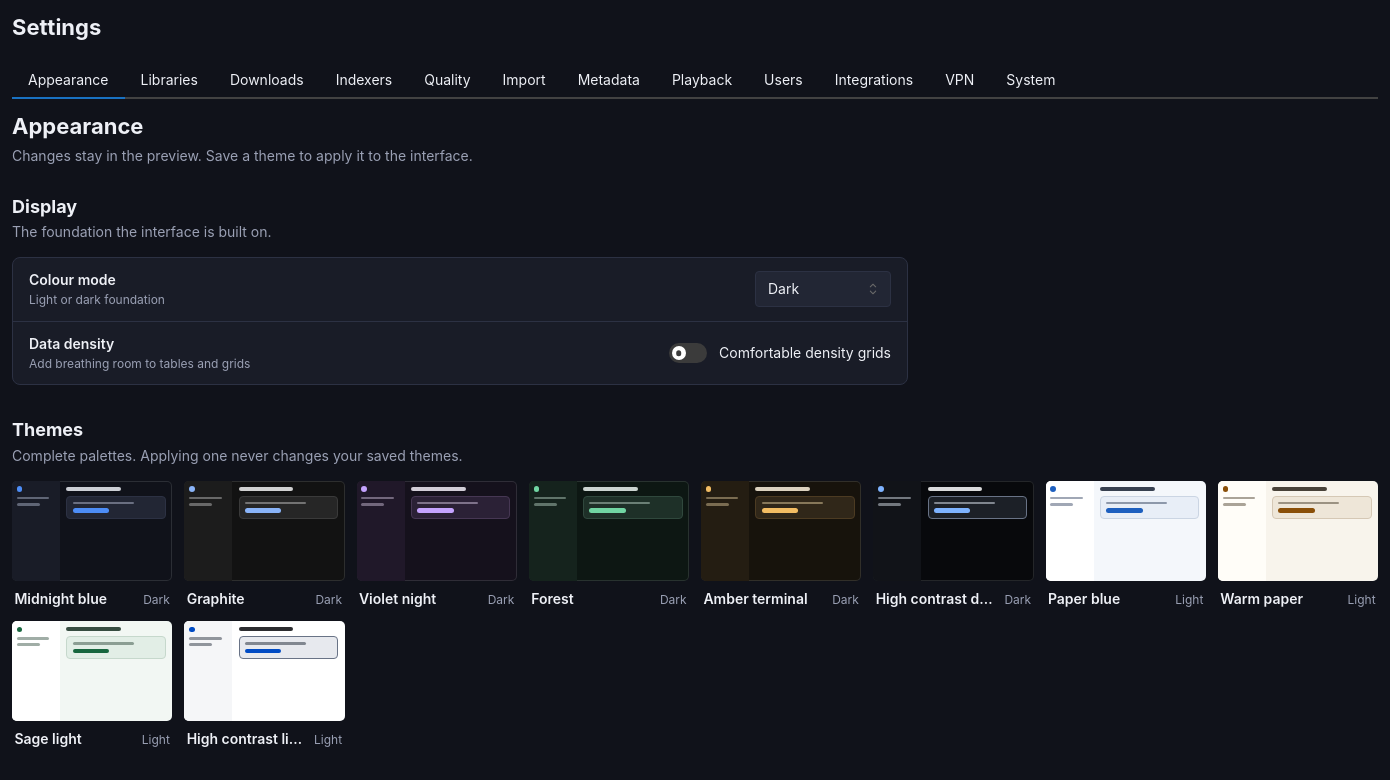
Scenario: Settings page › shows admin-gated notice to viewers instead of hidden controls
The width and height of the screenshot is (1390, 780).
Note: Switch to Libraries tab.
Click the tab "Libraries" at [169, 81], box [124,63,214,99]
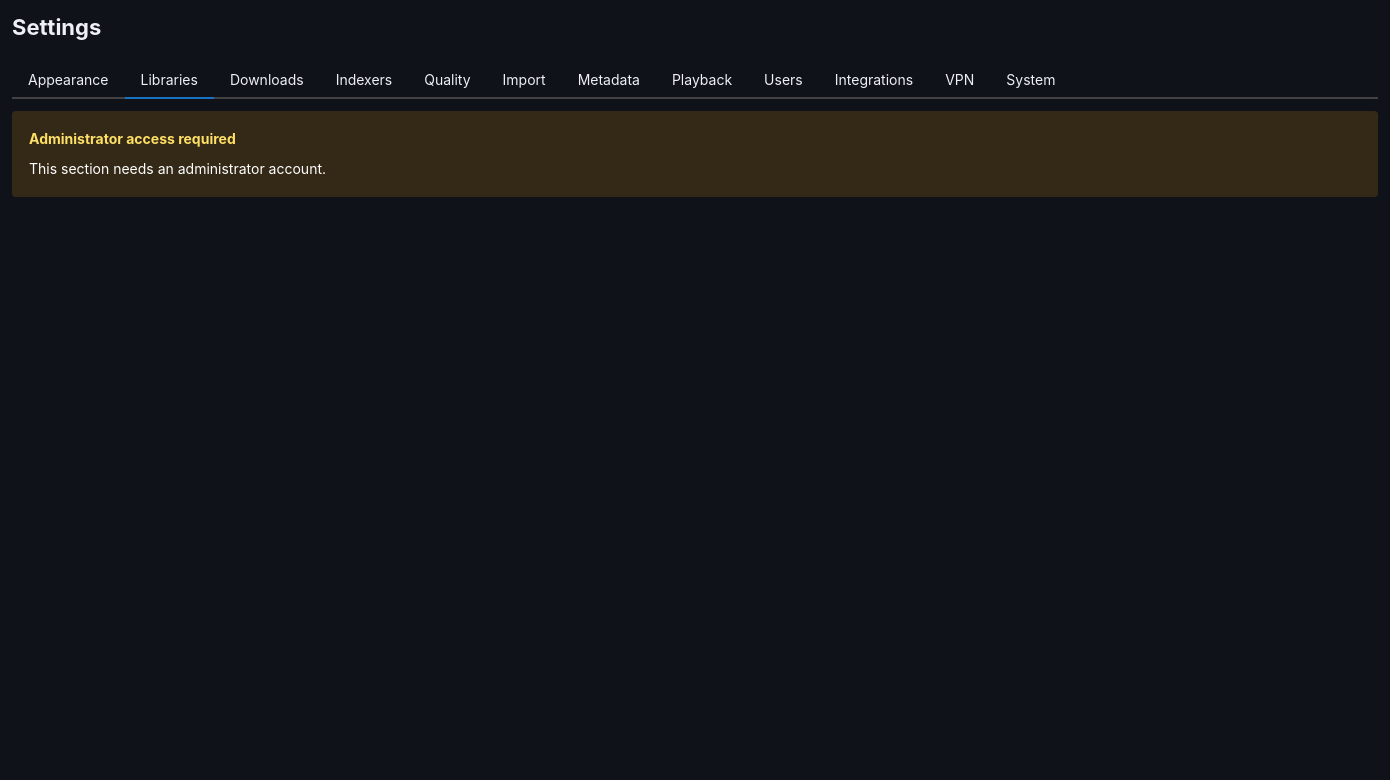
Check: the text "Administrator access required" is shown, box [29,128,236,150]
